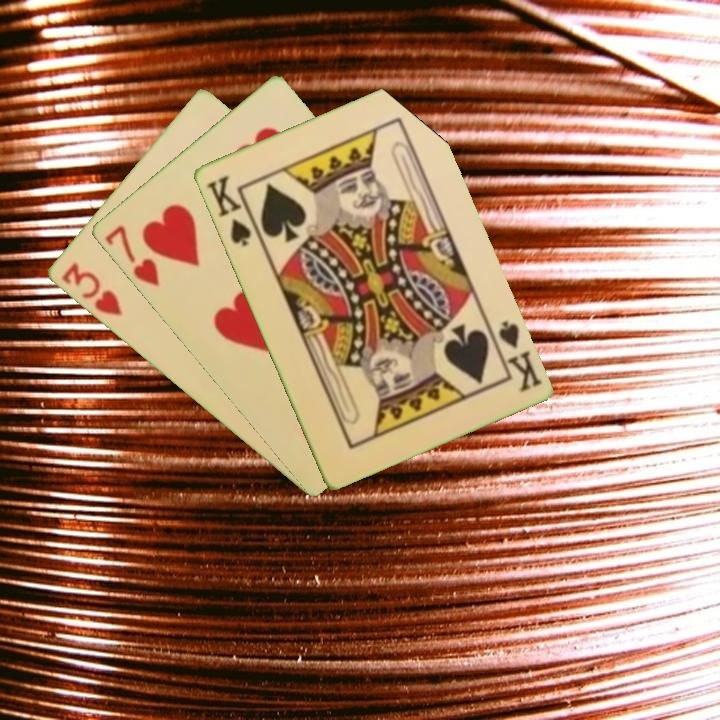3h: (57, 258, 125, 319)
7h: (101, 221, 162, 290)
Ks: (202, 171, 261, 250), (485, 317, 544, 395)
